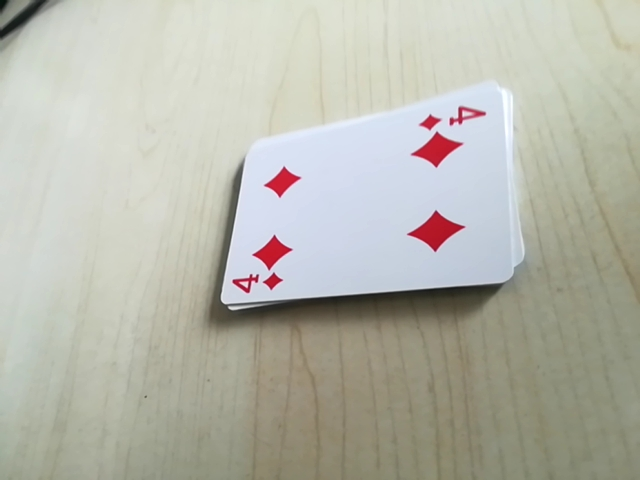fk 4: (415, 96, 494, 134), (225, 268, 291, 302)
